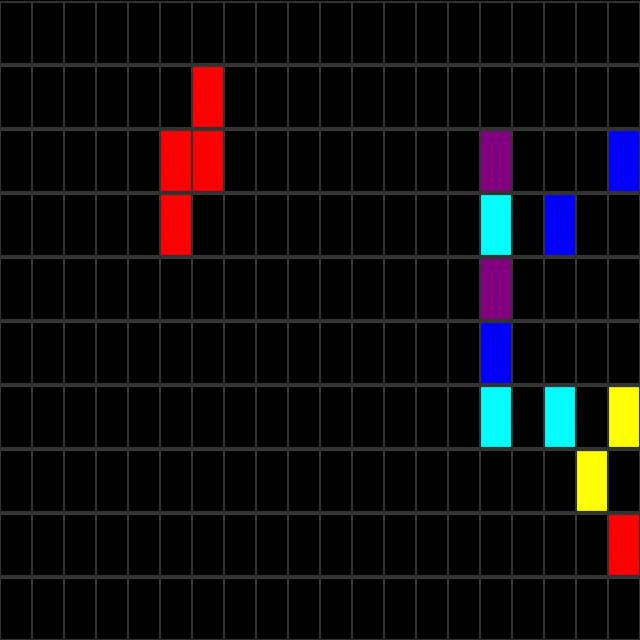Tetrimino_T: (162, 62, 224, 254)
